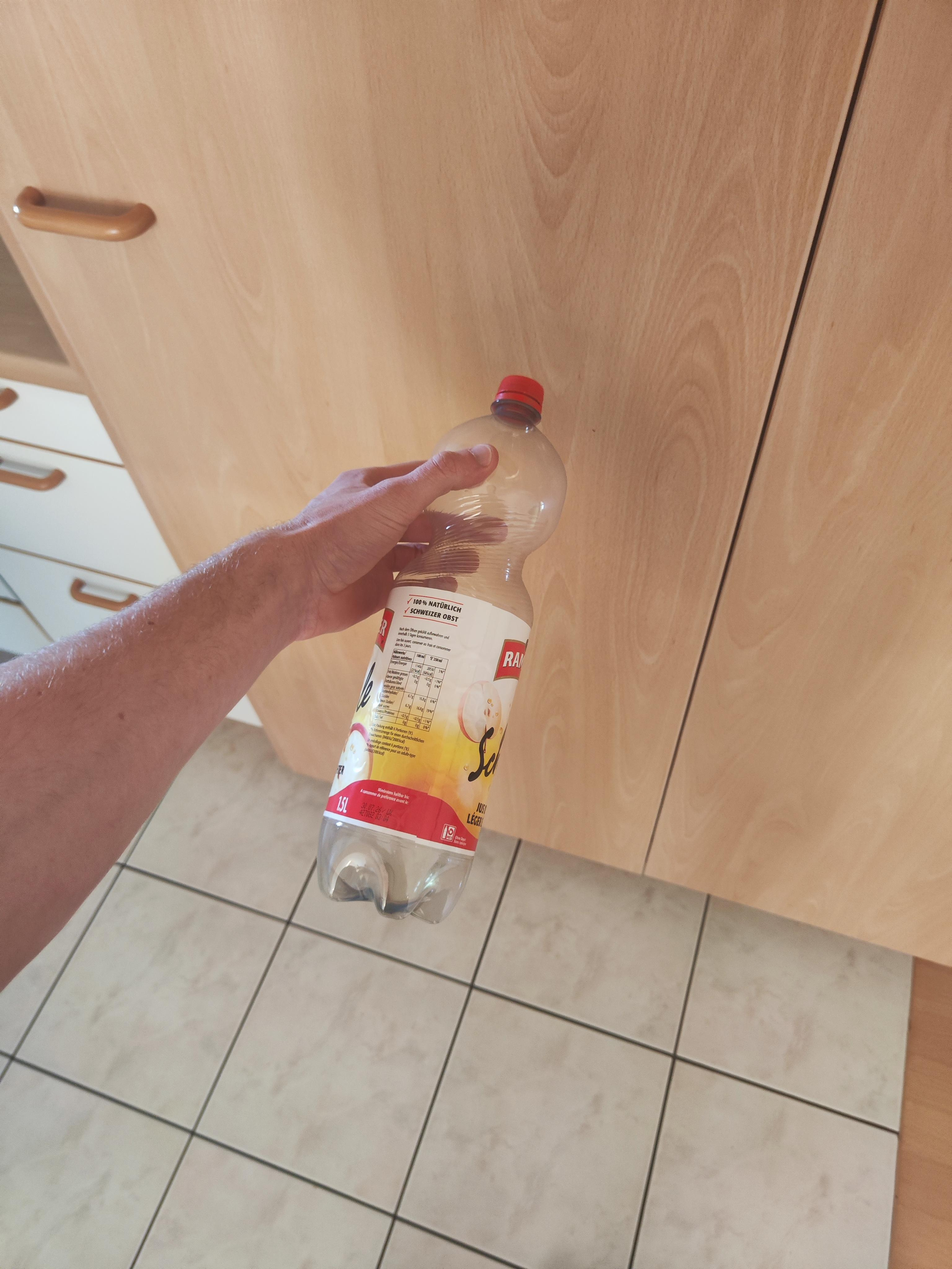Plastic: (310, 365, 569, 927)
